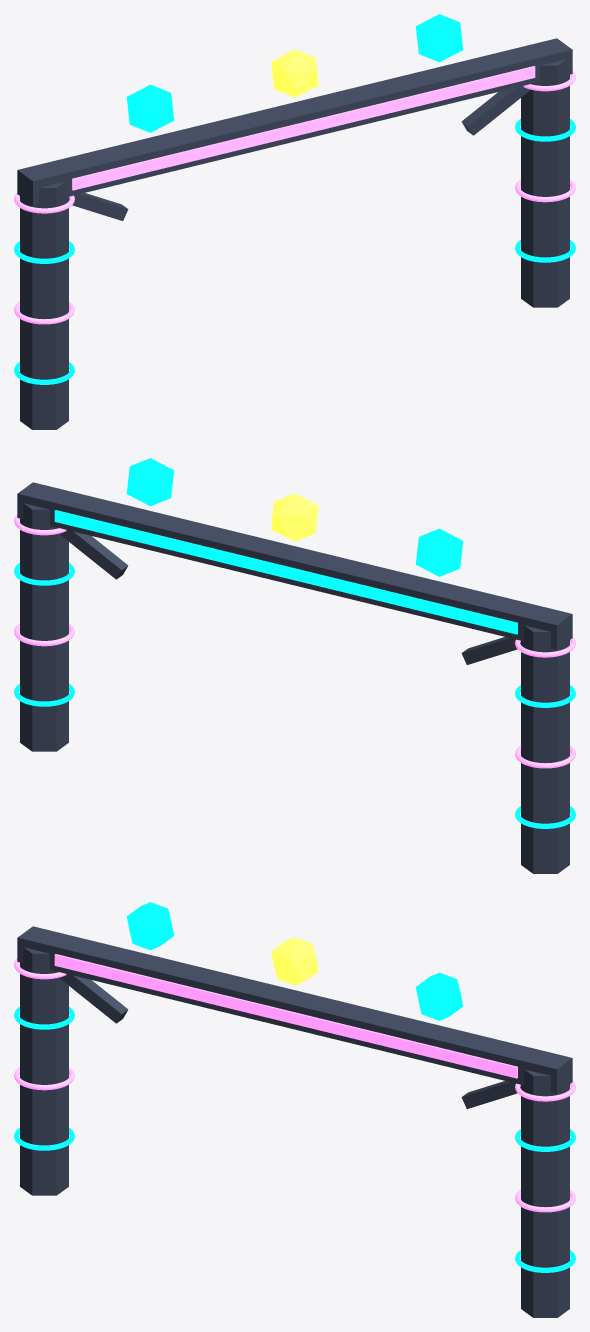
Rendered from track_arch.glb.
3 renders of one model, top to bottom at view 1: azimuth 30°, elevation 25°; view 2: azimuth 150°, elevation 25°; view 3: azimuth 330°, elevation 25°, orthographic.
Visible parts, largest first — view 1: Cube.002, Cylinder, Cylinder.001, Cube.004, Icosphere, Icosphere.001, Icosphere.002, Cube.001, Cube; view 2: Cube.002, Cylinder, Cylinder.001, Cube.003, Icosphere, Icosphere.001, Icosphere.002, Cube.001, Cube; view 3: Cube.002, Cylinder.001, Cylinder, Cube.004, Icosphere.001, Icosphere, Icosphere.002, Cube, Cube.001.
Boxes of the visible parts, box(x1,y1,x2,y2) form: Cube.002: box(17, 38, 572, 205); Cylinder: box(20, 181, 68, 429); Cylinder.001: box(521, 59, 569, 307); Cube.004: box(72, 66, 535, 190); Icosphere: box(126, 84, 174, 132); Icosphere.001: box(271, 49, 318, 97); Icosphere.002: box(415, 14, 463, 62); Cube.001: box(461, 86, 530, 135); Cube: box(69, 193, 128, 220); Cube.002: box(17, 482, 572, 649); Cylinder: box(521, 625, 569, 873); Cylinder.001: box(20, 503, 68, 751); Cube.003: box(54, 510, 517, 634); Icosphere: box(415, 528, 463, 576); Icosphere.001: box(271, 493, 318, 541); Icosphere.002: box(126, 458, 174, 506); Cube.001: box(59, 530, 128, 579); Cube: box(461, 637, 520, 664); Cube.002: box(17, 926, 572, 1093); Cylinder.001: box(521, 1069, 569, 1317); Cylinder: box(20, 947, 68, 1195); Cube.004: box(54, 954, 517, 1078); Icosphere.001: box(271, 937, 318, 985); Icosphere: box(126, 902, 173, 950); Icosphere.002: box(416, 972, 463, 1020); Cube: box(59, 974, 128, 1023); Cube.001: box(461, 1081, 520, 1108).
Bounding box in the file's own units: 28.74 × 15.4 × 2.74.
